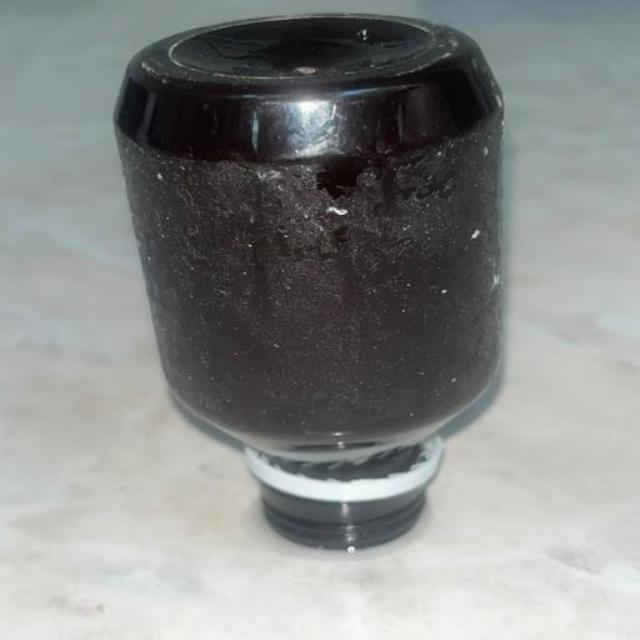HDPE: (100, 26, 575, 611)
